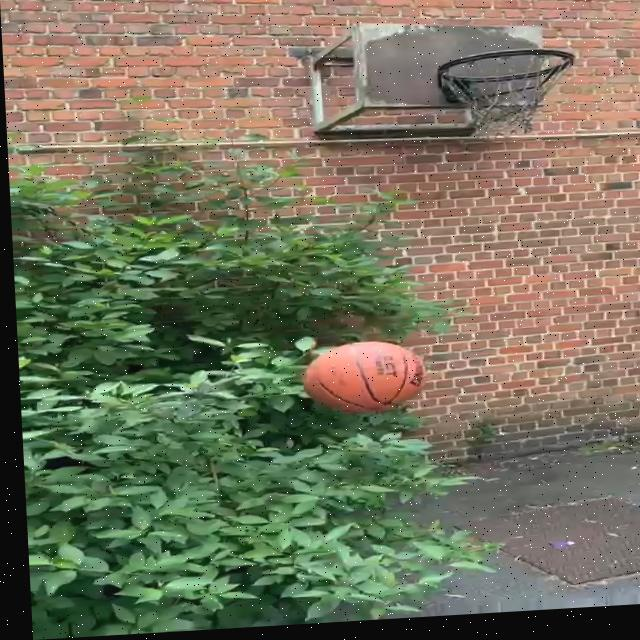Basketball: (307, 338, 424, 411)
